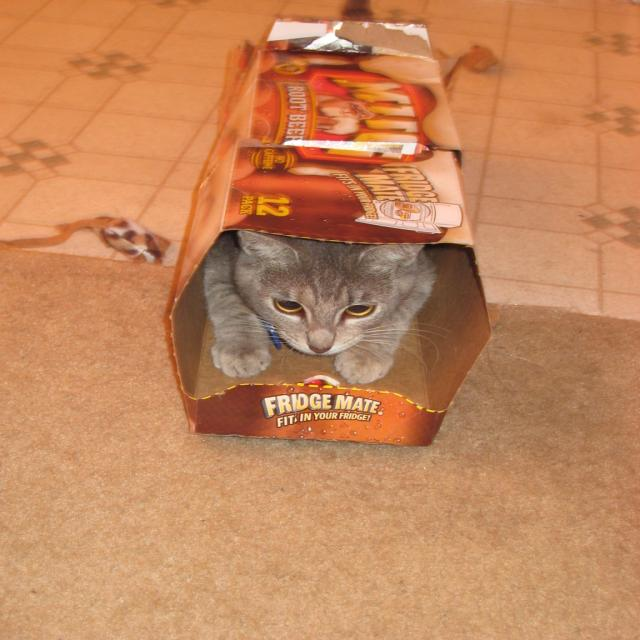Cat: (201, 227, 448, 382)
